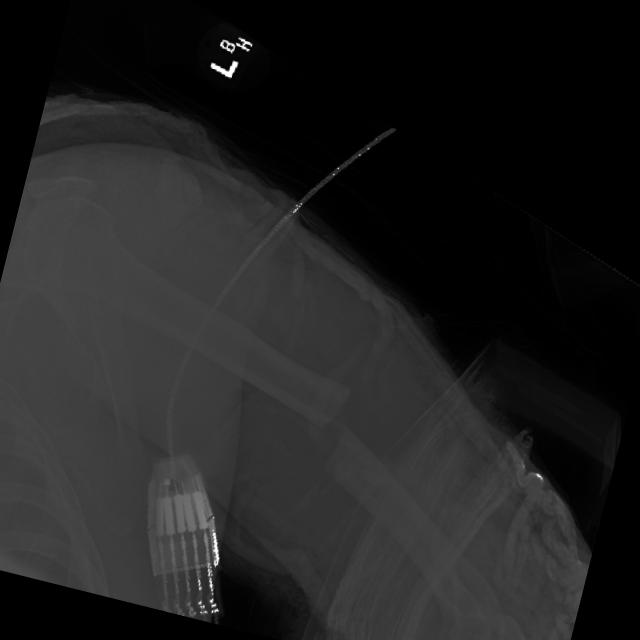humerus fracture: (212, 310, 442, 543)
